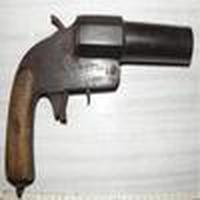gun: (3, 5, 200, 196)
